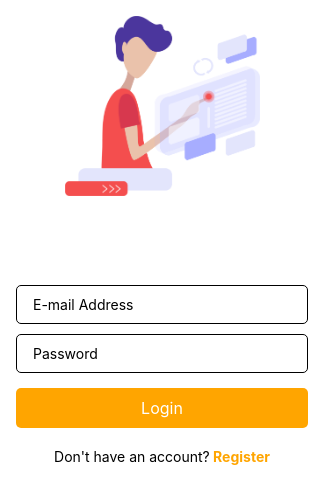
Test: password Check
This screenshot has width=325, height=482.
Clear the password field with placeholder "Password" at (162, 353), box [16, 334, 308, 373]
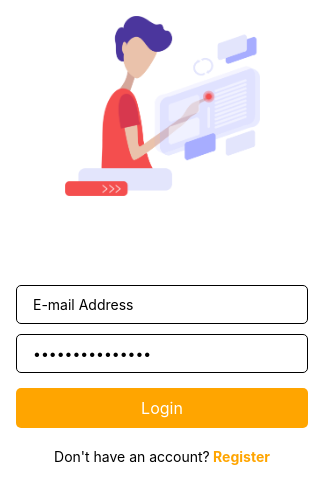
Expected: the password field holds "somenewpassword", [16, 334, 308, 373]
